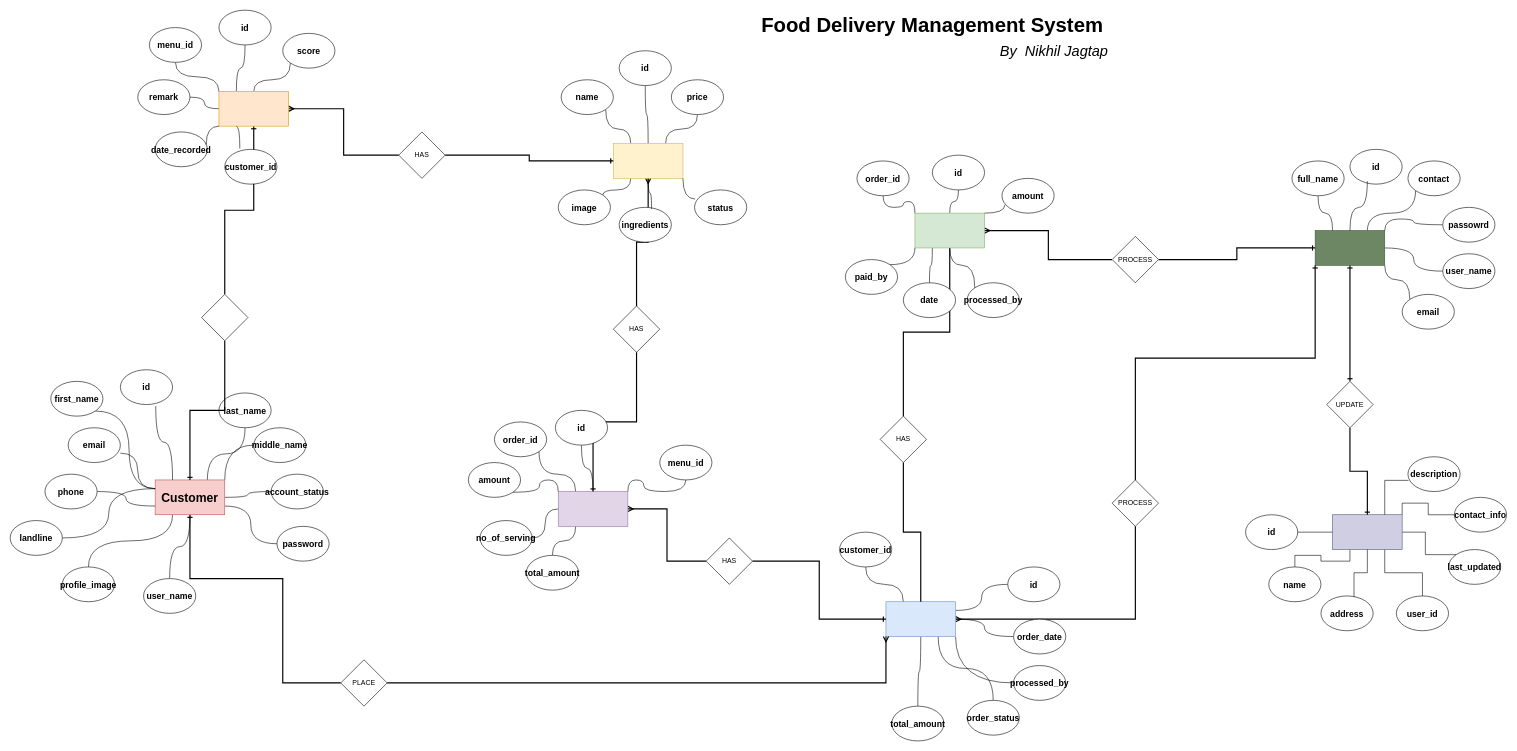
Image size: 1517x751. Some labels were removed from this diagram. The shapes that lost their labels are listed below. From the top down, each one's box as (x1, y1, x2, y2) in pixels, then its label:
(218, 91, 289, 126): Rating
(613, 143, 683, 178): Menu
(914, 213, 985, 248): Payment
(1315, 230, 1385, 265): User
(201, 294, 248, 341): RATE
(558, 491, 628, 526): Order Details
(1332, 514, 1402, 550): Site Information
(885, 601, 956, 637): Order
